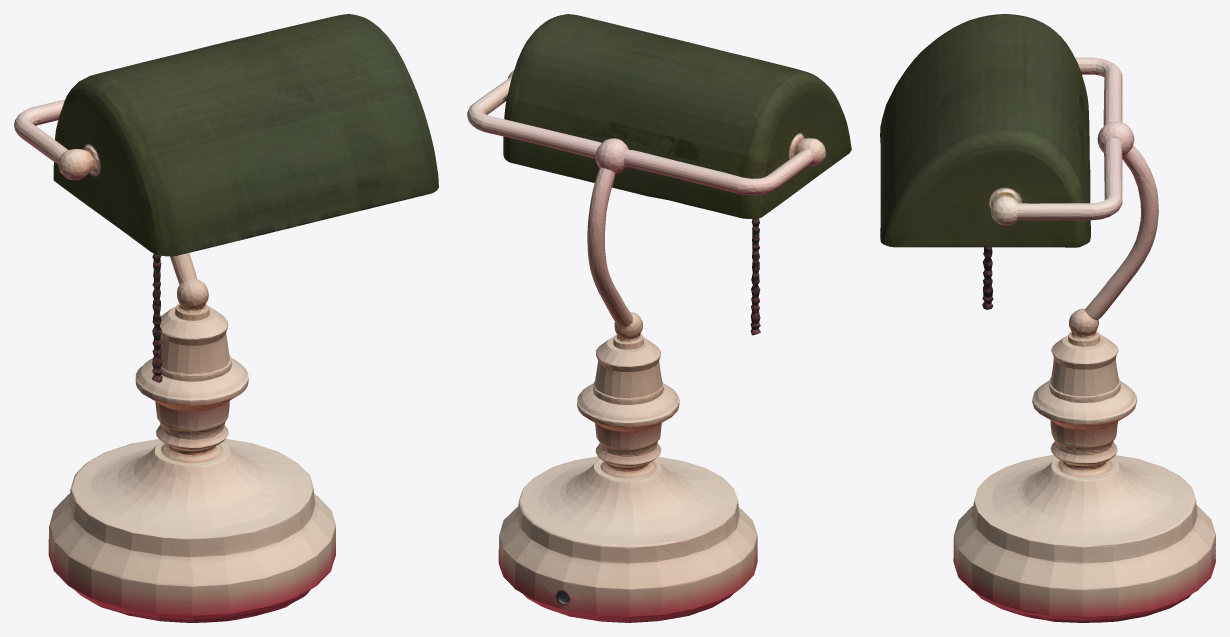
Rendered from original_slat.glb.
The picture shows the model from 3 angles, left to right: view 1: azimuth 30°, elevation 25°; view 2: azimuth 150°, elevation 25°; view 3: azimuth 270°, elevation 25°; orthographic projection. The views are drawn at different scales.
Parts seen in each view (by area): view 1: world; view 2: world; view 3: world.
Part boxes in pixels (x1,y1,x2,y2): world: (14, 14, 438, 622); world: (467, 14, 851, 622); world: (880, 14, 1215, 622).
Size of the model in its own units: 0.4941 by 0.7433 by 0.4504.
1 material, 1 textured.
